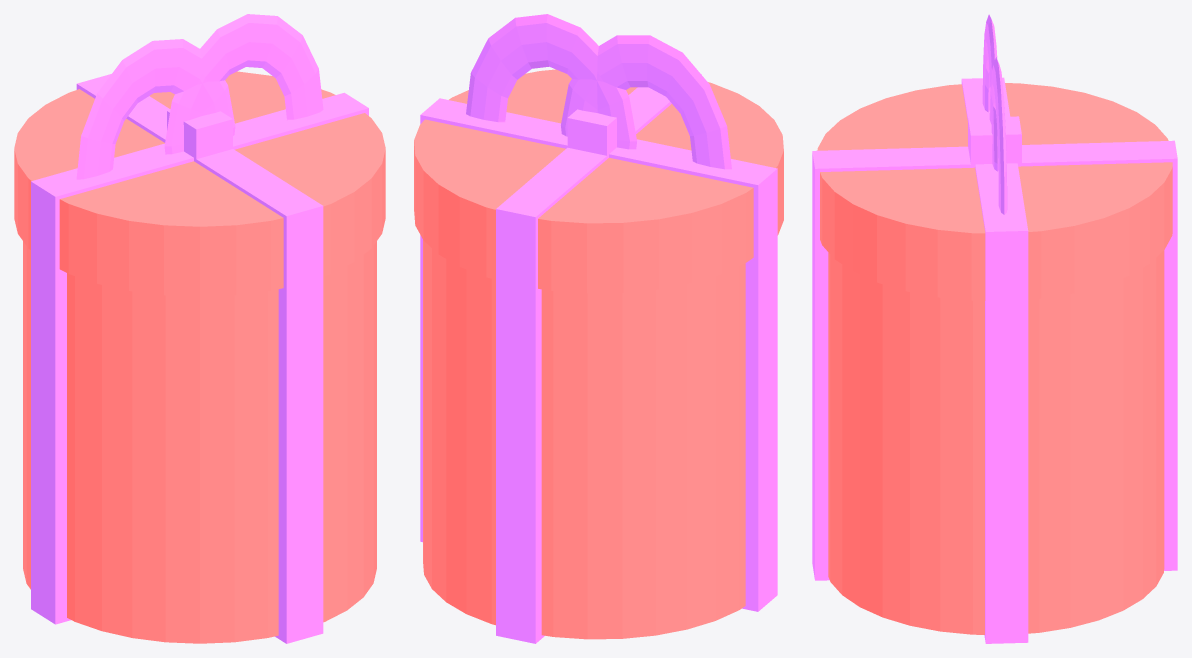
Rendered from Tmpl_Round_Root_231.glb.
3 renders of one model, left to right at view 1: azimuth 30°, elevation 25°; view 2: azimuth 150°, elevation 25°; view 3: azimuth 270°, elevation 25°, orthographic. The views are drawn at different scales.
Visible parts, largest first — view 1: Tmpl_Round_Base.229, Tmpl_Round_Lid.229, Tmpl_Round_Ribbon_Y.229, Tmpl_Round_Ribbon_X.229, Tmpl_Round_BowL.229, Tmpl_Round_BowR.229, Tmpl_Round_BowKnot.229; view 2: Tmpl_Round_Base.229, Tmpl_Round_Lid.229, Tmpl_Round_Ribbon_Y.229, Tmpl_Round_Ribbon_X.229, Tmpl_Round_BowL.229, Tmpl_Round_BowR.229, Tmpl_Round_BowKnot.229; view 3: Tmpl_Round_Base.229, Tmpl_Round_Lid.229, Tmpl_Round_Ribbon_X.229, Tmpl_Round_Ribbon_Y.229, Tmpl_Round_BowKnot.229, Tmpl_Round_BowL.229, Tmpl_Round_BowR.229.
Boxes of the visible parts, left/top/right/bottom form: Tmpl_Round_Base.229: left=23, top=241, right=376, bottom=643; Tmpl_Round_Lid.229: left=14, top=71, right=385, bottom=296; Tmpl_Round_Ribbon_Y.229: left=76, top=74, right=323, bottom=643; Tmpl_Round_Ribbon_X.229: left=31, top=92, right=368, bottom=624; Tmpl_Round_BowL.229: left=164, top=14, right=323, bottom=154; Tmpl_Round_BowR.229: left=76, top=39, right=235, bottom=179; Tmpl_Round_BowKnot.229: left=167, top=110, right=232, bottom=161; Tmpl_Round_Base.229: left=423, top=240, right=745, bottom=639; Tmpl_Round_Lid.229: left=414, top=69, right=783, bottom=293; Tmpl_Round_Ribbon_Y.229: left=496, top=74, right=701, bottom=643; Tmpl_Round_Ribbon_X.229: left=420, top=98, right=777, bottom=611; Tmpl_Round_BowL.229: left=466, top=14, right=636, bottom=149; Tmpl_Round_BowR.229: left=561, top=35, right=731, bottom=169; Tmpl_Round_BowKnot.229: left=567, top=109, right=616, bottom=158; Tmpl_Round_Base.229: left=828, top=250, right=1164, bottom=634; Tmpl_Round_Lid.229: left=817, top=83, right=1172, bottom=300; Tmpl_Round_Ribbon_X.229: left=961, top=77, right=1028, bottom=643; Tmpl_Round_Ribbon_Y.229: left=812, top=140, right=1177, bottom=580; Tmpl_Round_BowKnot.229: left=968, top=116, right=1021, bottom=167; Tmpl_Round_BowL.229: left=989, top=57, right=1007, bottom=214; Tmpl_Round_BowR.229: left=982, top=14, right=998, bottom=171.
Bounding box in the file's own units: 0.871 × 1.38 × 0.871.
